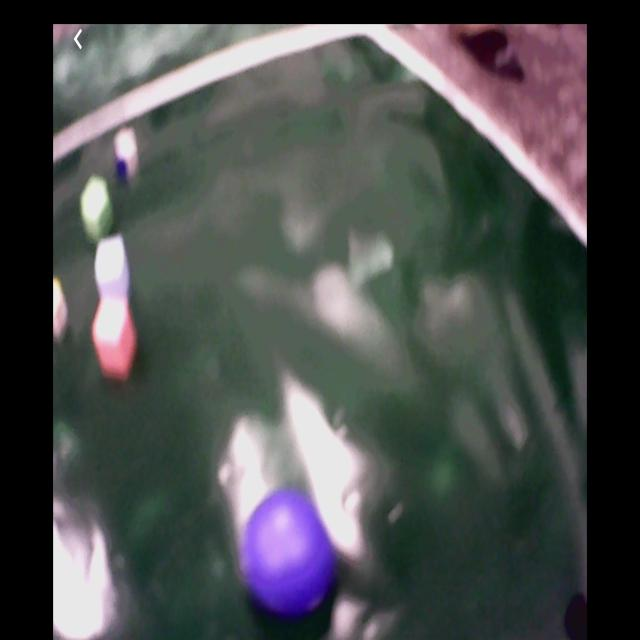ball: (244, 488, 336, 614)
